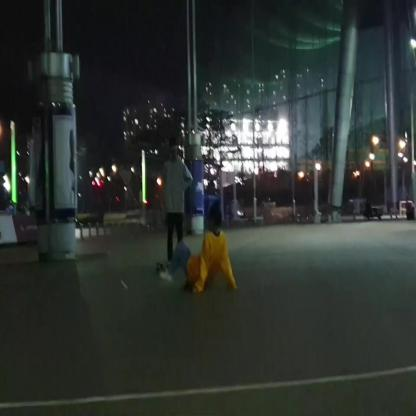Fall_Down: (159, 204, 238, 296)
